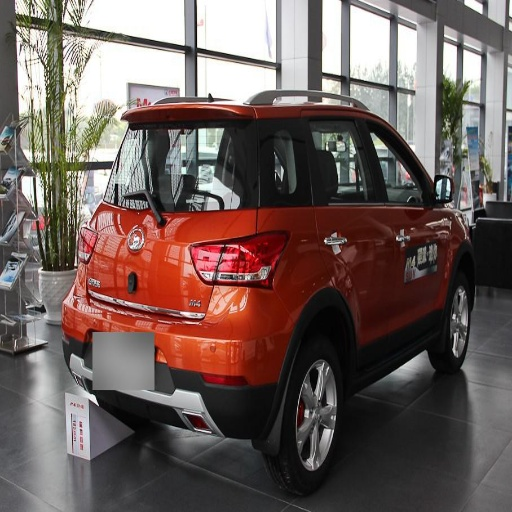back_bumper: (70, 285, 293, 432)
back_right_door: (285, 114, 407, 349)
trunk: (85, 209, 252, 363)
